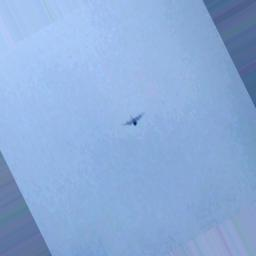Airplane: (121, 111, 144, 127)
